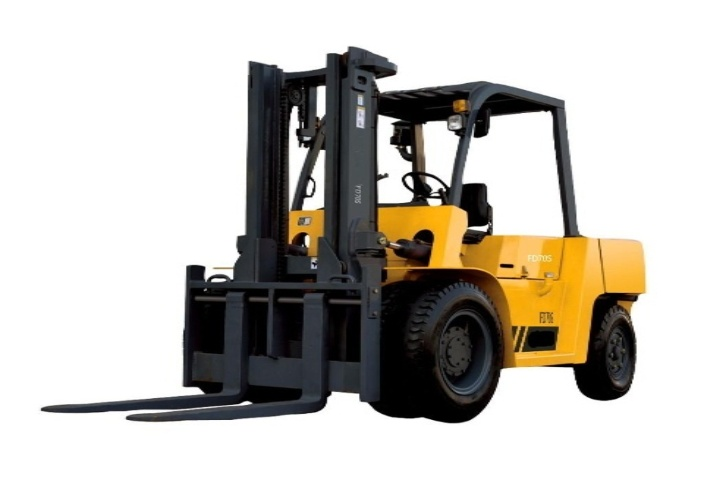industrial: (105, 28, 650, 426)
